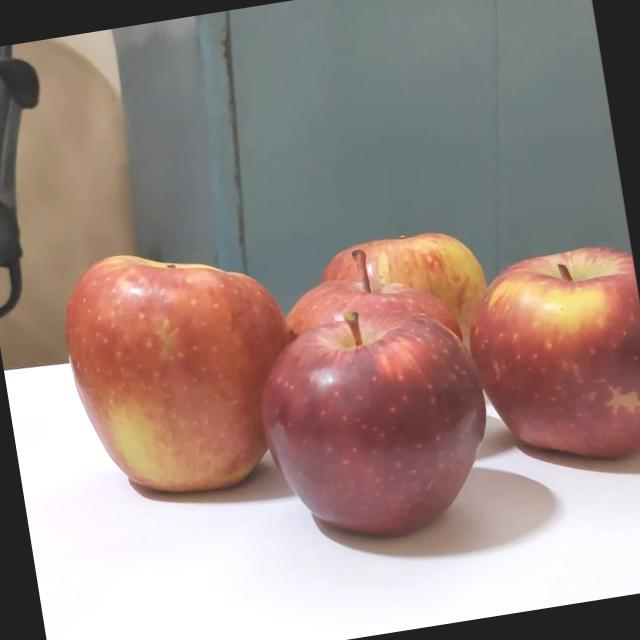apple: (58, 242, 300, 507), (252, 300, 496, 550), (274, 234, 472, 466), (454, 235, 640, 468), (290, 232, 468, 431)
